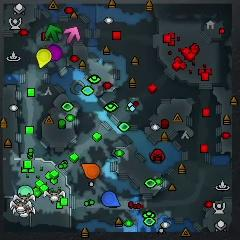p1: (103, 191, 121, 207)
p2: (17, 185, 33, 196)
p3: (50, 45, 63, 62)
p4: (36, 49, 52, 67)
p5: (83, 162, 100, 179)
x1: (65, 27, 80, 44)
x4: (46, 25, 61, 41)
